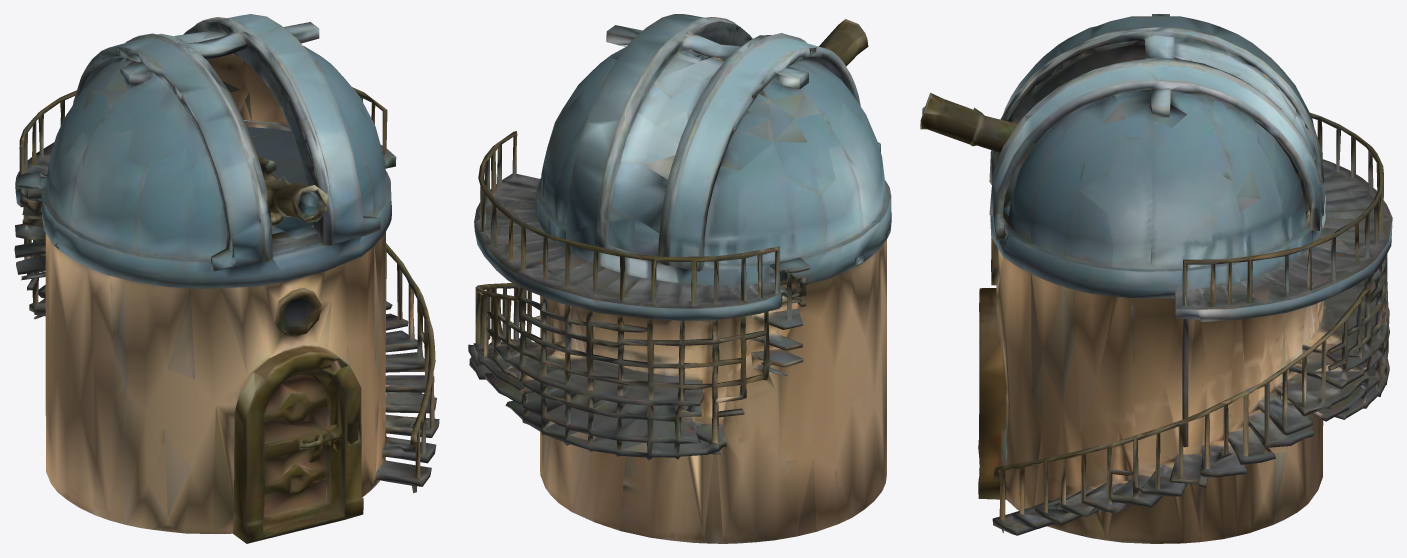
File: sc-home-observatory.glb
3 renders of one model, left to right at view 1: azimuth 30°, elevation 25°; view 2: azimuth 150°, elevation 25°; view 3: azimuth 270°, elevation 25°, orthographic.
Visible parts, largest first — view 1: geometry_0; view 2: geometry_0; view 3: geometry_0.
Part boxes in pixels (bbox=[...]): geometry_0: bbox=[14, 14, 439, 543]; geometry_0: bbox=[468, 14, 891, 543]; geometry_0: bbox=[920, 14, 1392, 543].
Size of the model in its own units: 0.8615 by 1 by 1.
Materials: 1 (1 with a texture image).
